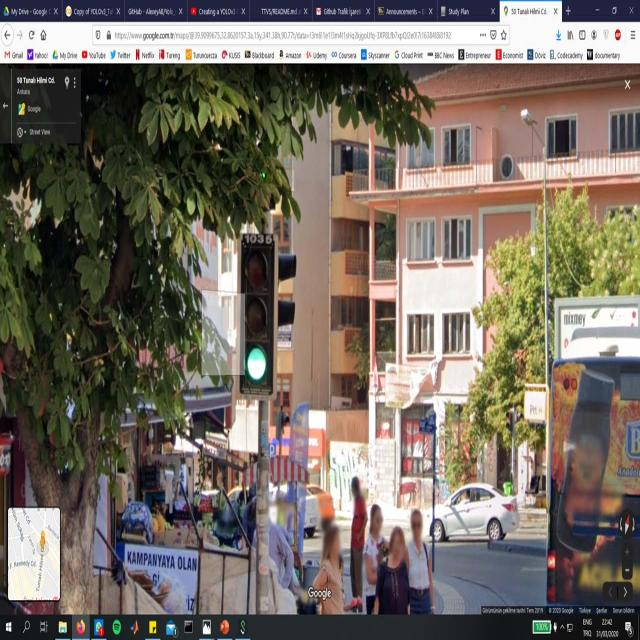yesil: (239, 237, 273, 391)
